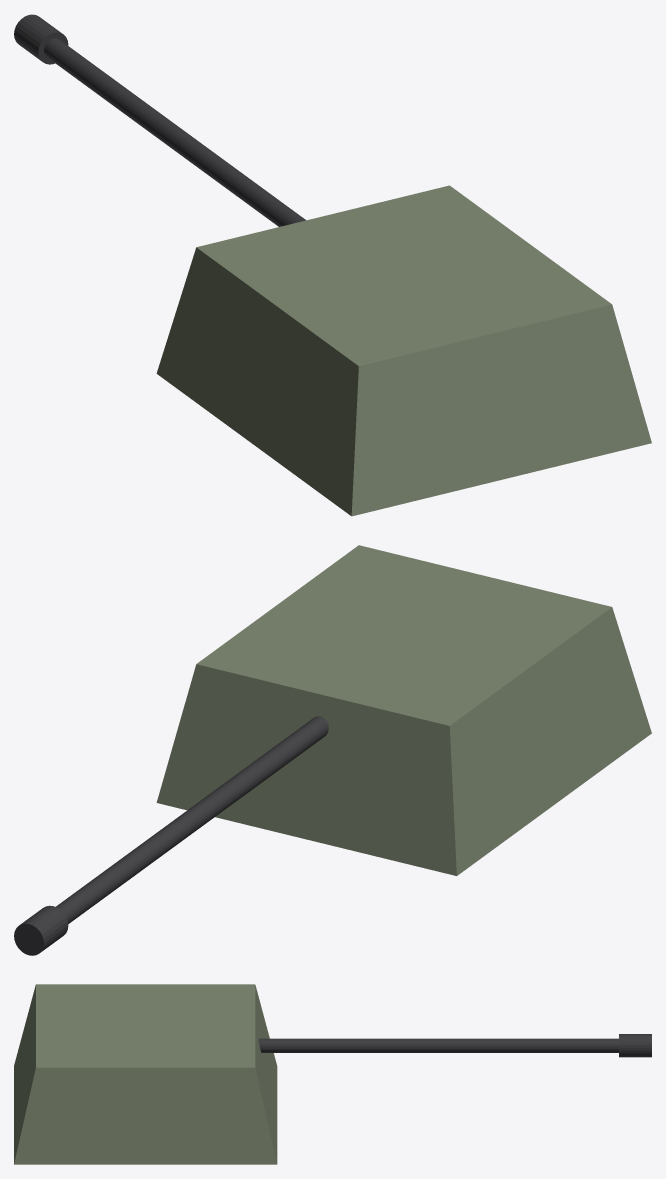
File: type_99a_gunfx.glb
3 renders of one model, top to bottom at view 1: azimuth 30°, elevation 25°; view 2: azimuth 150°, elevation 25°; view 3: azimuth 270°, elevation 25°, orthographic. The views are drawn at different scales.
Visible parts, largest first — view 1: fx_turret, fx_barrel, fx_barrel_tip; view 2: fx_turret, fx_barrel, fx_barrel_tip; view 3: fx_turret, fx_barrel, fx_barrel_tip.
Boxes of the visible parts, left/top/right/bottom form: fx_turret: left=156, top=185, right=651, bottom=516; fx_barrel: left=44, top=38, right=305, bottom=226; fx_barrel_tip: left=14, top=14, right=68, bottom=64; fx_turret: left=156, top=545, right=651, bottom=875; fx_barrel: left=56, top=716, right=328, bottom=923; fx_barrel_tip: left=14, top=905, right=68, bottom=955; fx_turret: left=14, top=984, right=277, bottom=1164; fx_barrel: left=258, top=1038, right=618, bottom=1052; fx_barrel_tip: left=619, top=1034, right=651, bottom=1057.
Size of the model in its own units: 3.2 by 1.35 by 8.72.
